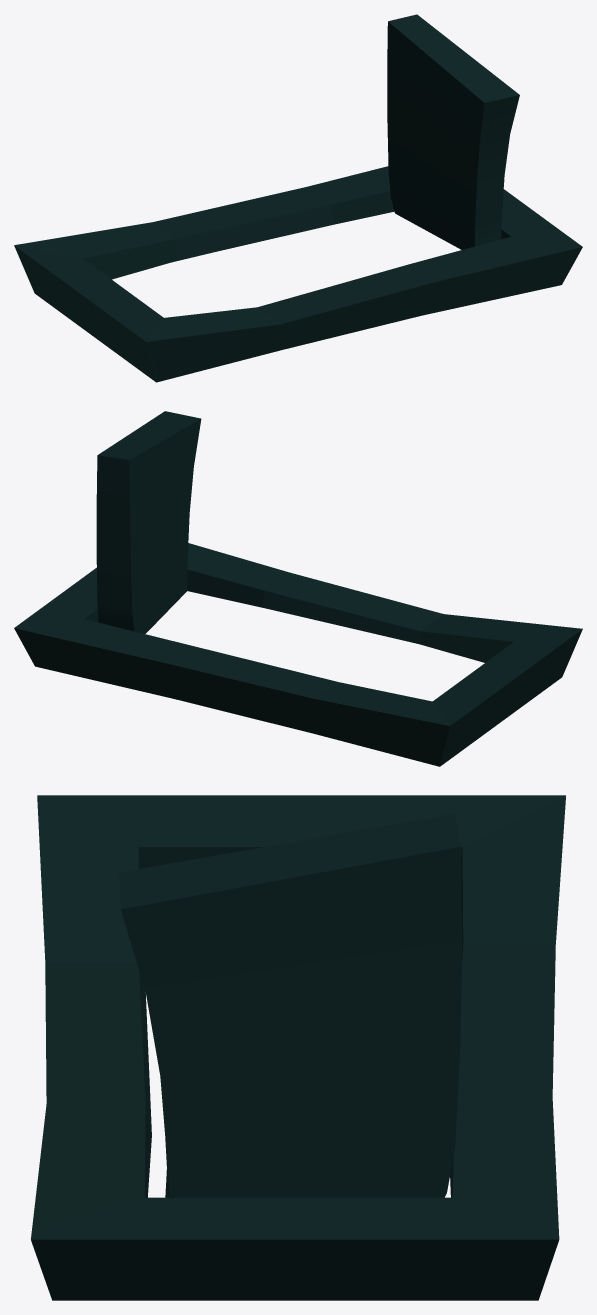
File: grave2_stone_0_lev1.glb
The picture shows the model from 3 angles, top to bottom: view 1: azimuth 30°, elevation 25°; view 2: azimuth 150°, elevation 25°; view 3: azimuth 270°, elevation 25°; orthographic projection. The views are drawn at different scales.
Parts seen in each view (by area): view 1: grave2_stone_0_lev1; view 2: grave2_stone_0_lev1; view 3: grave2_stone_0_lev1.
Boxes of the visible parts, bbox=[...] form: grave2_stone_0_lev1: bbox=[14, 14, 582, 382]; grave2_stone_0_lev1: bbox=[14, 411, 582, 766]; grave2_stone_0_lev1: bbox=[31, 795, 565, 1300].
Size of the model in its own units: 1.58 by 0.7224 by 0.843.
